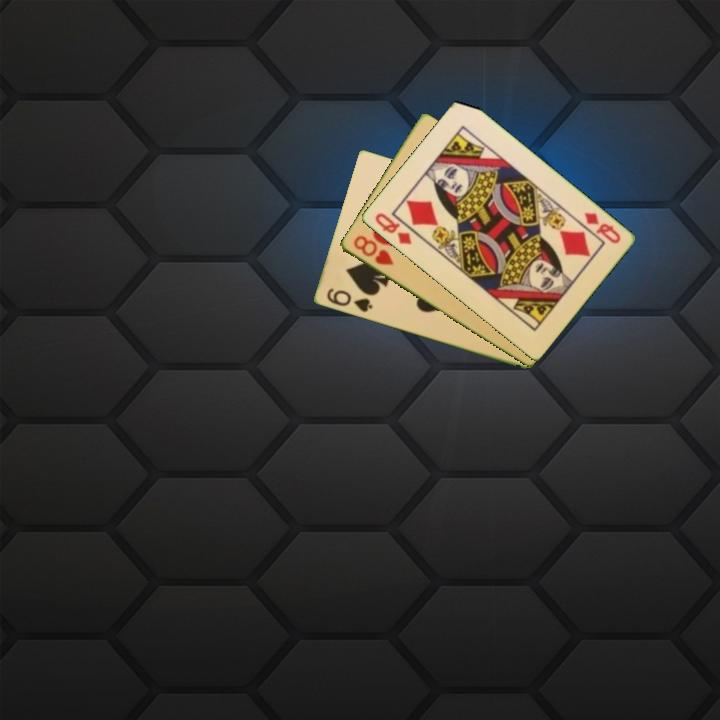6s: (323, 285, 375, 315)
8h: (349, 232, 396, 268)
Qd: (371, 209, 414, 248), (580, 209, 623, 247)
